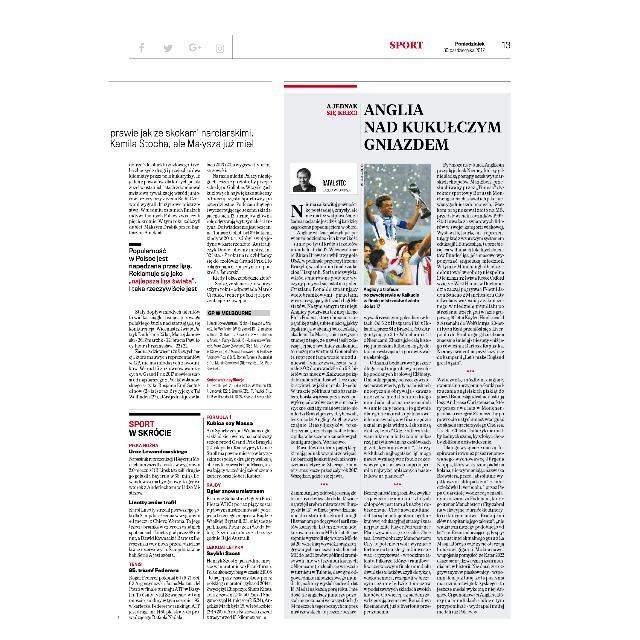article: (288, 96, 507, 616)
